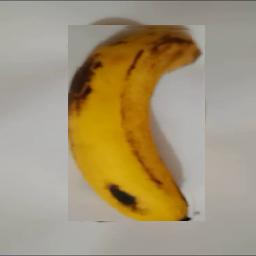Banana Semifresh: (68, 25, 205, 221)
